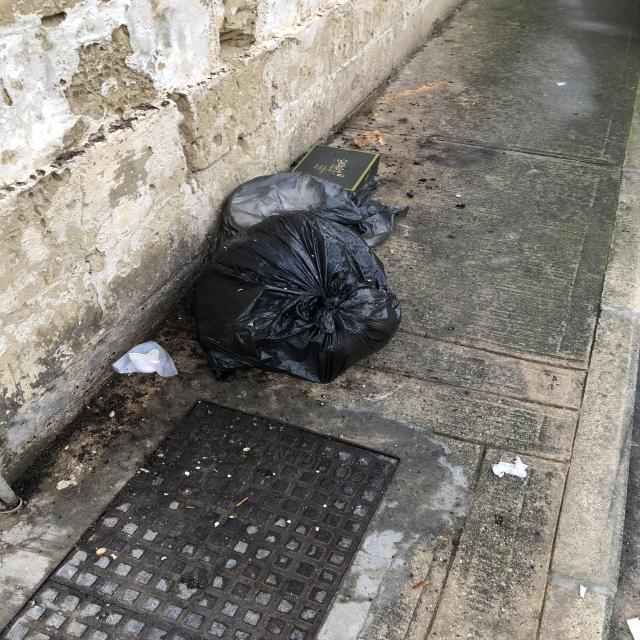Mixed Waste -Black Bag-: (189, 212, 403, 387), (221, 172, 411, 252)
Other: (294, 143, 382, 196), (111, 339, 179, 387), (490, 455, 534, 483), (625, 616, 640, 640)
